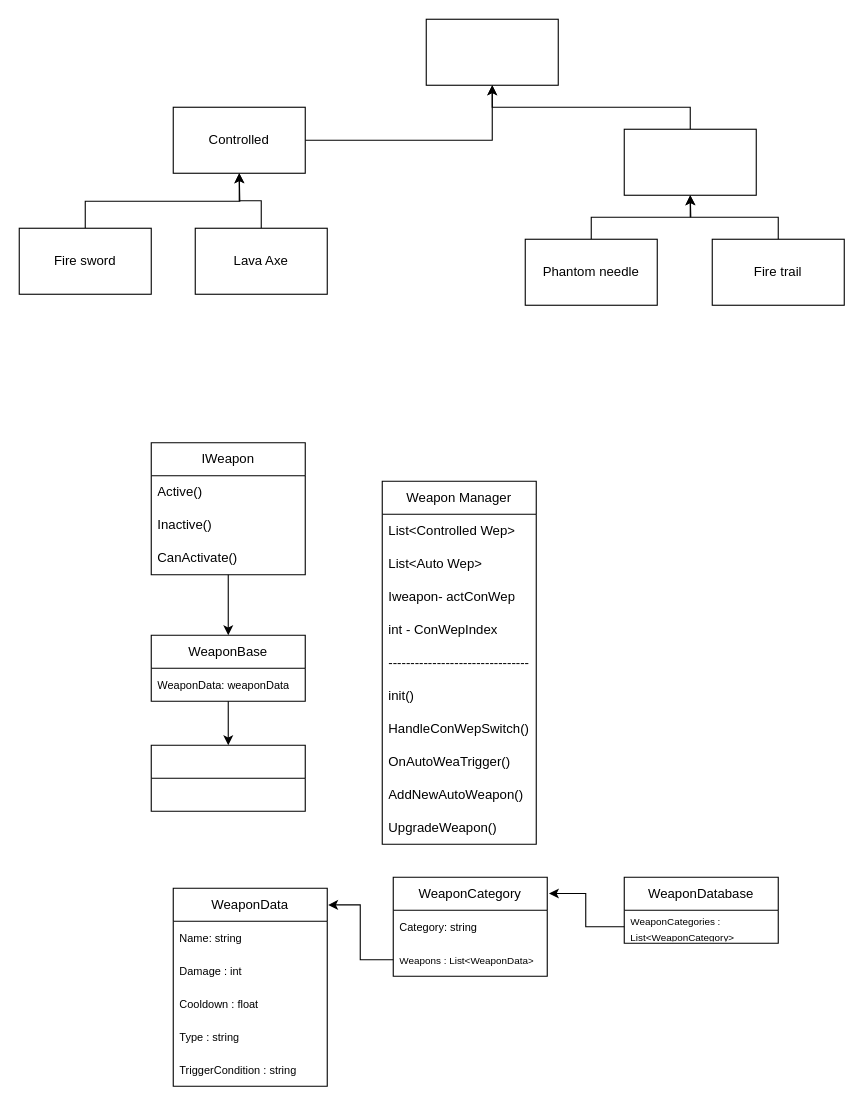
Image size: 864x1106. Some labels were removed from this diagram. Each missing label, with the centre of its shape:
Automatic: pixel 689 161
MeleeAttack: pixel 227 777
Weapon: pixel 491 51
